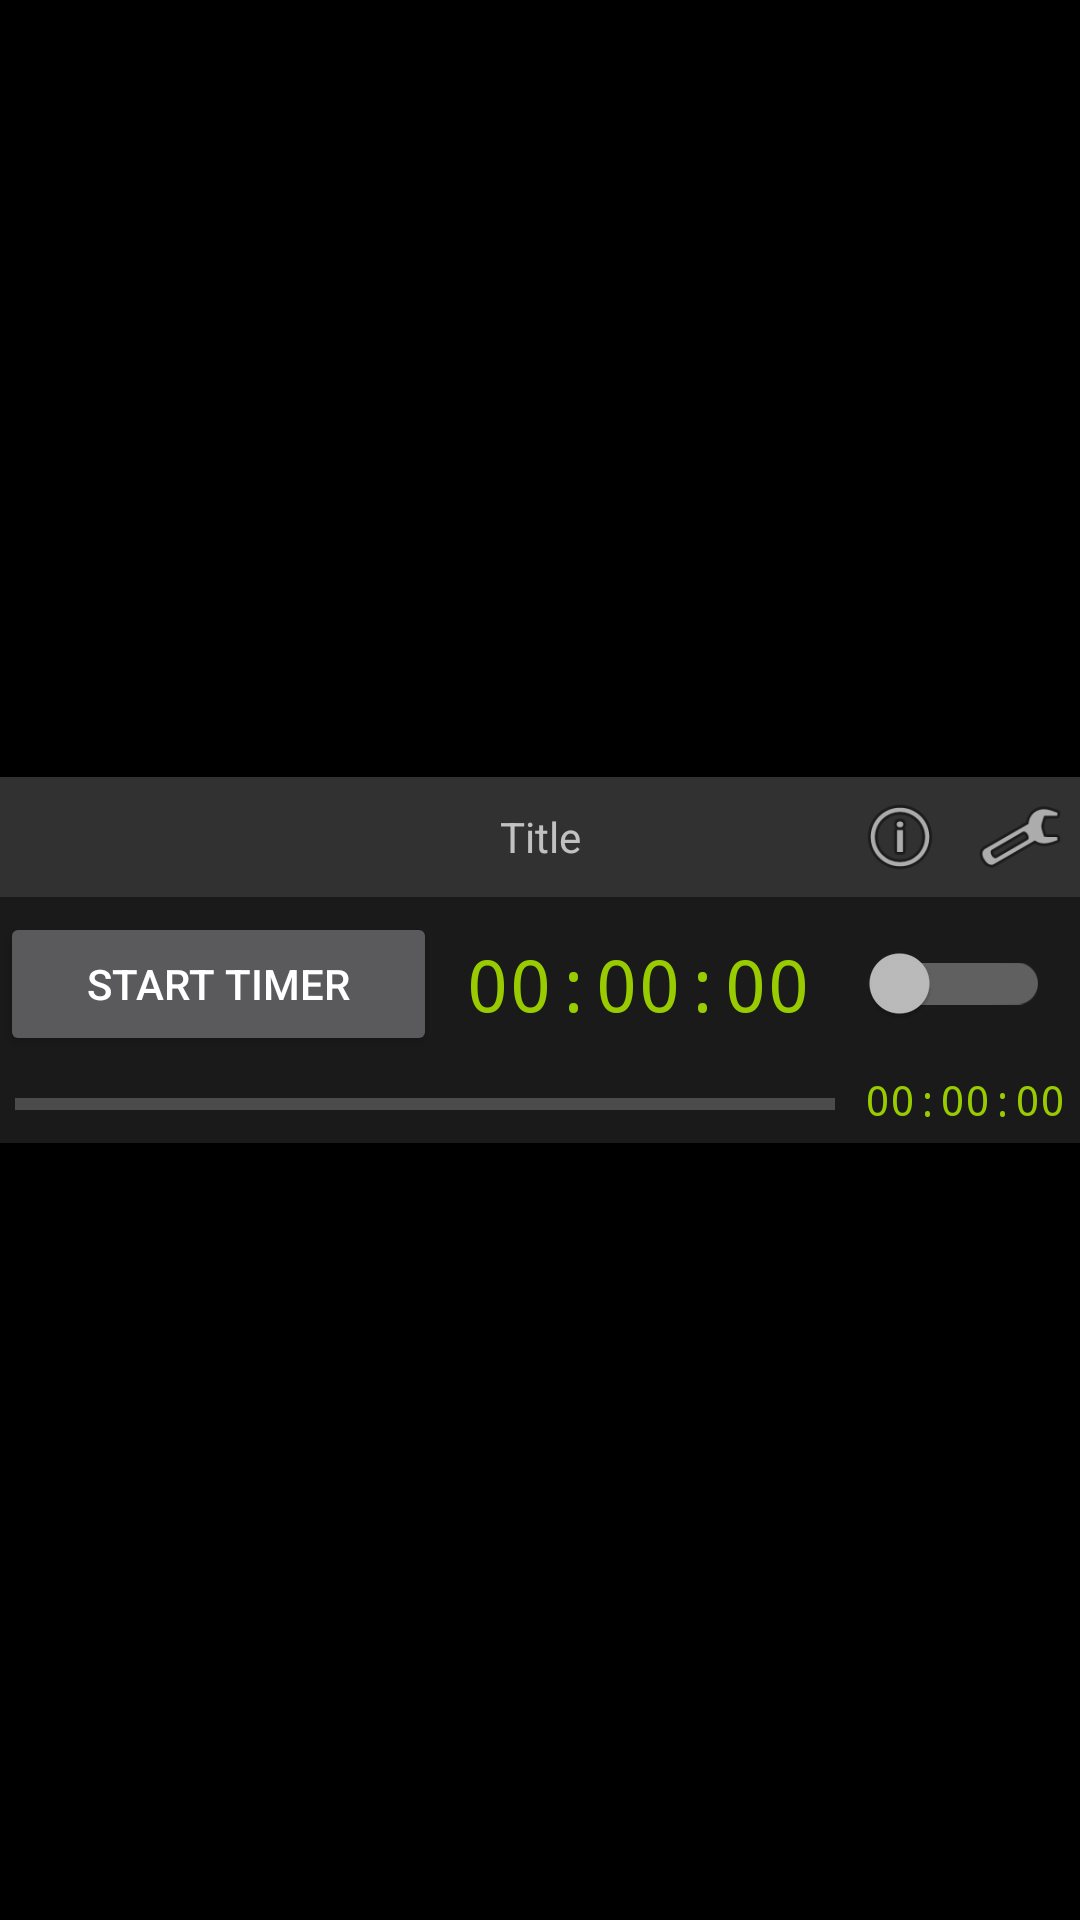

Locate icon controls on the screen. Image size 1080w x 1920h, boxes as (x1, y1, x2, y2).
info details: (871, 808, 929, 866)
manage: (982, 809, 1058, 865)
